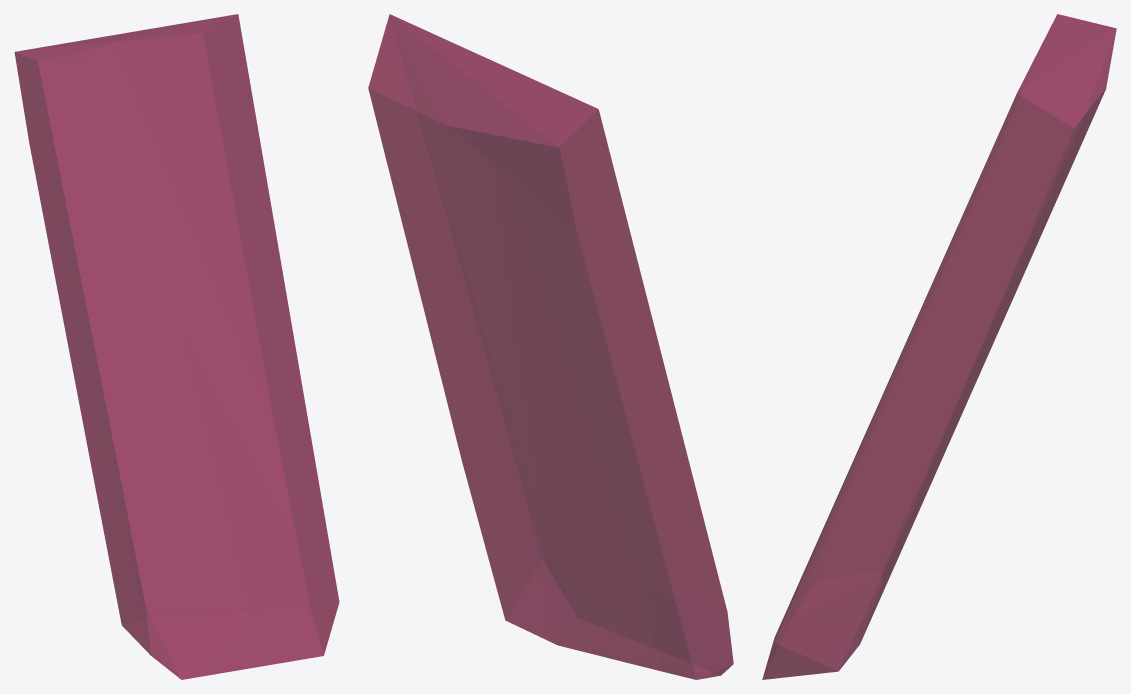
3 views of the same model, side by side, from view 1: azimuth 30°, elevation 25°; view 2: azimuth 150°, elevation 25°; view 3: azimuth 270°, elevation 25° (orthographic). The views are drawn at different scales.
Visible parts, largest first — view 1: Shape_IndexedFaceSet.109_Shape_IndexedFaceSet.7721; view 2: Shape_IndexedFaceSet.109_Shape_IndexedFaceSet.7721; view 3: Shape_IndexedFaceSet.109_Shape_IndexedFaceSet.7721.
Part boxes in pixels (<box>): Shape_IndexedFaceSet.109_Shape_IndexedFaceSet.7721: <box>14,14,339,679</box>; Shape_IndexedFaceSet.109_Shape_IndexedFaceSet.7721: <box>368,14,733,679</box>; Shape_IndexedFaceSet.109_Shape_IndexedFaceSet.7721: <box>762,14,1116,679</box>.
Bounding box in the file's own units: 0.0522 × 0.1515 × 0.0802.
